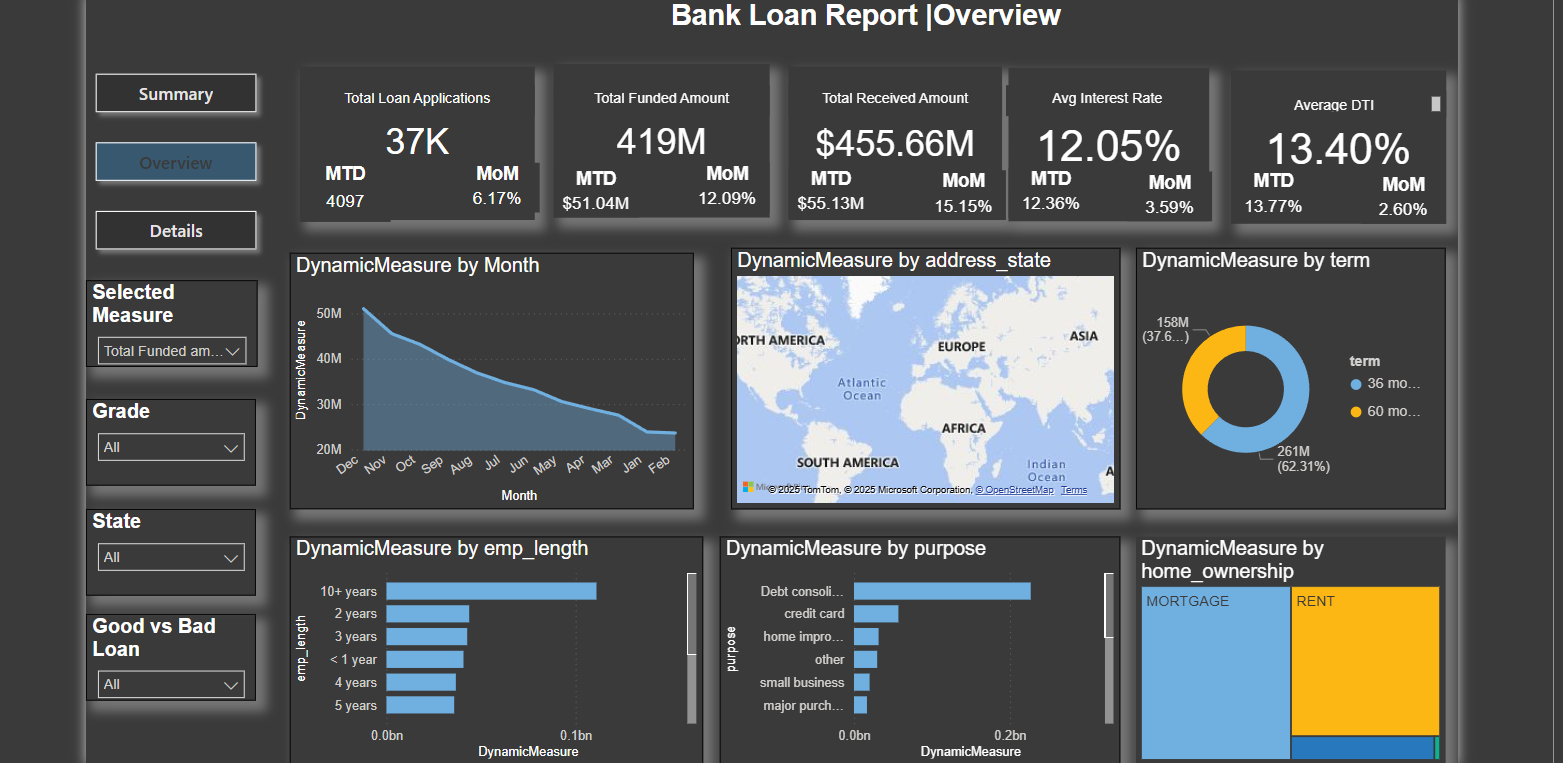

Layout of this report page (visuals, bound fields, positions):
{"tool":"powerbi","page":{"name":"Overview","canvas":[1280,720],"ordinal":1},"visuals":[{"type":"areaChart","fields":{"Category":["Date table.Month"],"Y":["Table Measures.DynamicMeasure"]},"box":[190.4,240.9,376.6,239.5],"z":0},{"type":"slicer","title":"Good vs Bad Loan","fields":{"Values":["financial_loan.Good vs bad loan"]},"box":[0,578.5,158.7,80.8],"z":1000},{"type":"slicer","title":"State","fields":{"Values":["financial_loan.address_state"]},"box":[0,480.4,158.7,80.8],"z":2000},{"type":"slicer","title":"Grade","fields":{"Values":["financial_loan.grade"]},"box":[0,378,158.7,80.8],"z":3000},{"type":"textbox","box":[442.8,0,568.2,48.3],"z":4000},{"type":"slicer","title":"Selected Measure","fields":{"Values":["SelectedMeasure.Measure Name"]},"box":[0,266.9,160.1,80.8],"z":5000},{"type":"filledMap","fields":{"Category":["financial_loan.address_state"],"Y":["Table Measures.DynamicMeasure"]},"box":[601.6,236.6,363.6,243.8],"z":6000},{"type":"donutChart","fields":{"Y":["Table Measures.DynamicMeasure"],"Category":["financial_loan.term"]},"box":[979.6,236.6,288.6,243.8],"z":7000},{"type":"barChart","fields":{"Y":["Table Measures.DynamicMeasure"],"Category":["financial_loan.emp_length"]},"box":[190.4,506.4,385.2,213.5],"z":8000},{"type":"barChart","fields":{"Y":["Table Measures.DynamicMeasure"],"Category":["financial_loan.purpose"]},"box":[591.5,506.4,373.7,213.5],"z":9000},{"type":"treemap","fields":{"Group":["financial_loan.home_ownership"],"Values":["Table Measures.DynamicMeasure"]},"box":[979.6,506.4,288.6,213.5],"z":10000},{"type":"pageNavigator","box":[0,64.9,168.8,183.2],"z":11000},{"type":"card","fields":{"Values":["table_measures.Total Loan Amount"]},"box":[199.1,67.8,219.3,142.8],"z":12000},{"type":"card","title":"MTD","fields":{"Values":["Table Measures.MTD_loan_appl"]},"box":[199.1,157.3,85.1,54.8],"z":13000},{"type":"card","title":"MoM","fields":{"Values":["Table Measures.MOM_loan_appl"]},"box":[343.4,157.3,79.4,46.2],"z":14000},{"type":"card","fields":{"Values":["Table Measures.Total Funded amount"]},"box":[435.7,64.9,202,142.8],"z":15000},{"type":"card","title":"MTD","fields":{"Values":["Table Measures.MTD_funded_amt"]},"box":[435.7,161.6,79.4,46.2],"z":16000},{"type":"card","title":"MoM","fields":{"Values":["Table Measures.MoM_funded_amt"]},"box":[558.3,157.3,79.4,46.2],"z":17000},{"type":"card","fields":{"Values":["Table Measures.Total receive amount"]},"box":[655,67.8,199.1,142.8],"z":18000},{"type":"card","fields":{"Values":["Table Measures.Avg_interest_rate"]},"box":[859.9,69.3,187.6,142.8],"z":19000},{"type":"card","fields":{"Values":["Table Measures.avg_dti"]},"box":[1067.6,70.7,200.5,142.8],"z":20000},{"type":"card","title":"MTD","fields":{"Values":["Table Measures.MTD receive amt"]},"box":[655,161.6,79.4,46.2],"z":21000},{"type":"card","title":"MoM","fields":{"Values":["Table Measures.MoM_received_amt"]},"box":[779.1,164.5,79.4,46.2],"z":22000},{"type":"card","title":"MTD","fields":{"Values":["Table Measures.MTD_int_rate"]},"box":[859.9,161.6,79.4,46.2],"z":23000},{"type":"card","title":"MoM","fields":{"Values":["Table Measures.MoM_int_rate"]},"box":[971,165.9,79.4,46.2],"z":24000},{"type":"card","title":"MTD","fields":{"Values":["Table Measures.MTD_avg_dti"]},"box":[1067.6,164.5,79.4,46.2],"z":25000},{"type":"card","title":"MoM","fields":{"Values":["Table Measures.MoM_avg_dti"]},"box":[1188.8,167.4,79.4,46.2],"z":26000},{"type":"textbox","box":[199.1,85.1,219.3,28.9],"z":27000},{"type":"textbox","box":[435.7,85.1,202,28.9],"z":28000},{"type":"textbox","box":[655,85.1,199.1,28.9],"z":28001},{"type":"textbox","box":[858.4,85.1,189,28.9],"z":28002},{"type":"textbox","box":[1067.6,90.9,200.5,23.1],"z":28003}]}

Visuals, with their boxes on the page's 1280x720 design canvas (x1, y1, x2, y2). These are canvas units, not pixel positions in the 1563x763 screenshot, which may show the page scaled, cropped or inside an application window:
areaChart - Date table.Month x Table Measures.DynamicMeasure: [190,241,567,480]
"Good vs Bad Loan" slicer: [0,578,159,659]
"State" slicer: [0,480,159,561]
"Grade" slicer: [0,378,159,459]
textbox: [443,0,1011,48]
"Selected Measure" slicer: [0,267,160,348]
filledMap - financial_loan.address_state x Table Measures.DynamicMeasure: [602,237,965,480]
donutChart - Table Measures.DynamicMeasure x financial_loan.term: [980,237,1268,480]
barChart - Table Measures.DynamicMeasure x financial_loan.emp_length: [190,506,576,720]
barChart - Table Measures.DynamicMeasure x financial_loan.purpose: [592,506,965,720]
treemap - financial_loan.home_ownership x Table Measures.DynamicMeasure: [980,506,1268,720]
pageNavigator: [0,65,169,248]
card - table_measures.Total Loan Amount: [199,68,418,211]
"MTD" card: [199,157,284,212]
"MoM" card: [343,157,423,204]
card - Table Measures.Total Funded amount: [436,65,638,208]
"MTD" card: [436,162,515,208]
"MoM" card: [558,157,638,204]
card - Table Measures.Total receive amount: [655,68,854,211]
card - Table Measures.Avg_interest_rate: [860,69,1048,212]
card - Table Measures.avg_dti: [1068,71,1268,214]
"MTD" card: [655,162,734,208]
"MoM" card: [779,164,858,211]
"MTD" card: [860,162,939,208]
"MoM" card: [971,166,1050,212]
"MTD" card: [1068,164,1147,211]
"MoM" card: [1189,167,1268,214]
textbox: [199,85,418,114]
textbox: [436,85,638,114]
textbox: [655,85,854,114]
textbox: [858,85,1047,114]
textbox: [1068,91,1268,114]
